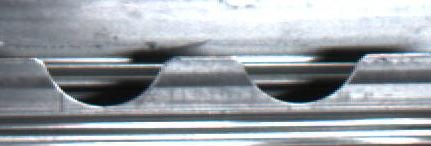twou: (37, 44, 360, 118)
